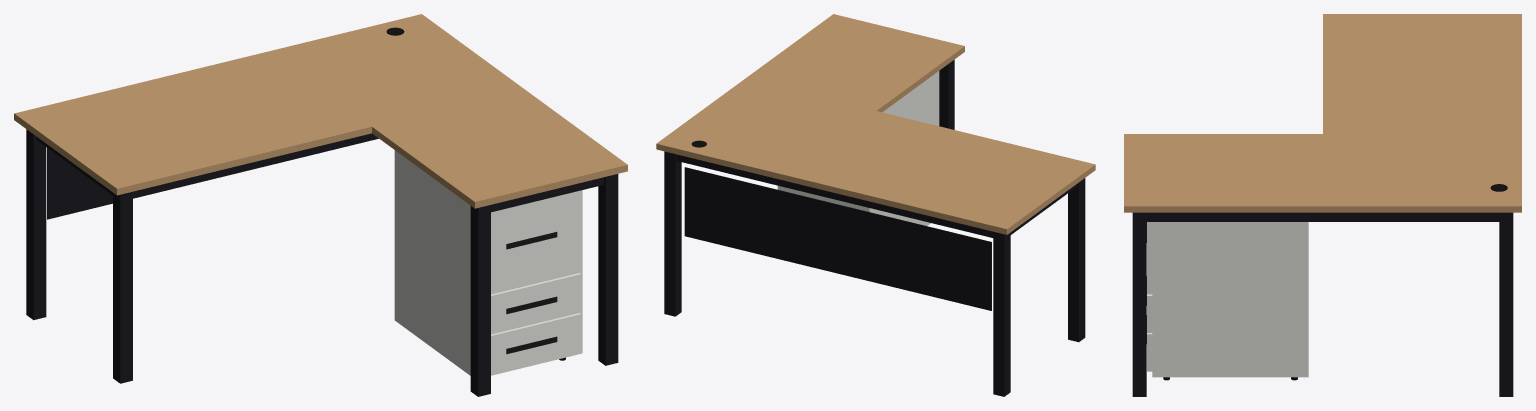
Rendered from 046_l_shaped_corner_desk.glb.
3 views of the same model, side by side, from view 1: azimuth 30°, elevation 25°; view 2: azimuth 150°, elevation 25°; view 3: azimuth 270°, elevation 25° (orthographic). The views are drawn at different scales.
Visible parts, largest first — view 1: 000_main_top, 001_return_top, 017_carcass_side_l, 036_drawer_3_front, 016_modesty_panel, 010_leg, 008_leg, 002_leg, 004_leg, 022_drawer_1_front, 029_drawer_2_front, 015_frame_rail_return_front; view 2: 000_main_top, 016_modesty_panel, 001_return_top, 002_leg, 006_leg, 004_leg, 012_frame_rail_main_back, 017_carcass_side_l, 010_leg, 021_pedestal_back; view 3: 000_main_top, 018_carcass_side_r, 001_return_top, 014_frame_rail_return_r, 006_leg, 008_leg, 036_drawer_3_front.
Boxes of the visible parts, x1=… form: 000_main_top: x1=14, y1=14, x2=524, y2=195; 001_return_top: x1=372, y1=89, x2=627, y2=208; 017_carcass_side_l: x1=394, y1=150, x2=470, y2=375; 036_drawer_3_front: x1=491, y1=190, x2=581, y2=294; 016_modesty_panel: x1=47, y1=133, x2=378, y2=219; 010_leg: x1=470, y1=205, x2=490, y2=396; 008_leg: x1=598, y1=174, x2=618, y2=365; 002_leg: x1=26, y1=129, x2=46, y2=320; 004_leg: x1=113, y1=191, x2=132, y2=383; 022_drawer_1_front: x1=491, y1=313, x2=581, y2=374; 029_drawer_2_front: x1=491, y1=273, x2=581, y2=334; 015_frame_rail_return_front: x1=491, y1=177, x2=603, y2=212; 000_main_top: x1=656, y1=79, x2=1095, y2=234; 016_modesty_panel: x1=684, y1=167, x2=991, y2=310; 001_return_top: x1=745, y1=14, x2=964, y2=112; 002_leg: x1=993, y1=231, x2=1010, y2=396; 006_leg: x1=664, y1=151, x2=681, y2=316; 004_leg: x1=1068, y1=178, x2=1085, y2=342; 012_frame_rail_main_back: x1=676, y1=154, x2=993, y2=237; 017_carcass_side_l: x1=867, y1=71, x2=939, y2=225; 010_leg: x1=939, y1=59, x2=954, y2=129; 021_pedestal_back: x1=778, y1=186, x2=870, y2=212; 000_main_top: x1=1323, y1=14, x2=1521, y2=212; 018_carcass_side_r: x1=1152, y1=222, x2=1308, y2=377; 001_return_top: x1=1124, y1=134, x2=1322, y2=212; 014_frame_rail_return_r: x1=1146, y1=212, x2=1499, y2=221; 006_leg: x1=1499, y1=212, x2=1513, y2=396; 008_leg: x1=1132, y1=212, x2=1146, y2=396; 036_drawer_3_front: x1=1147, y1=222, x2=1152, y2=294.
Bounding box in the file's own units: 1.6 × 0.752 × 1.4.
